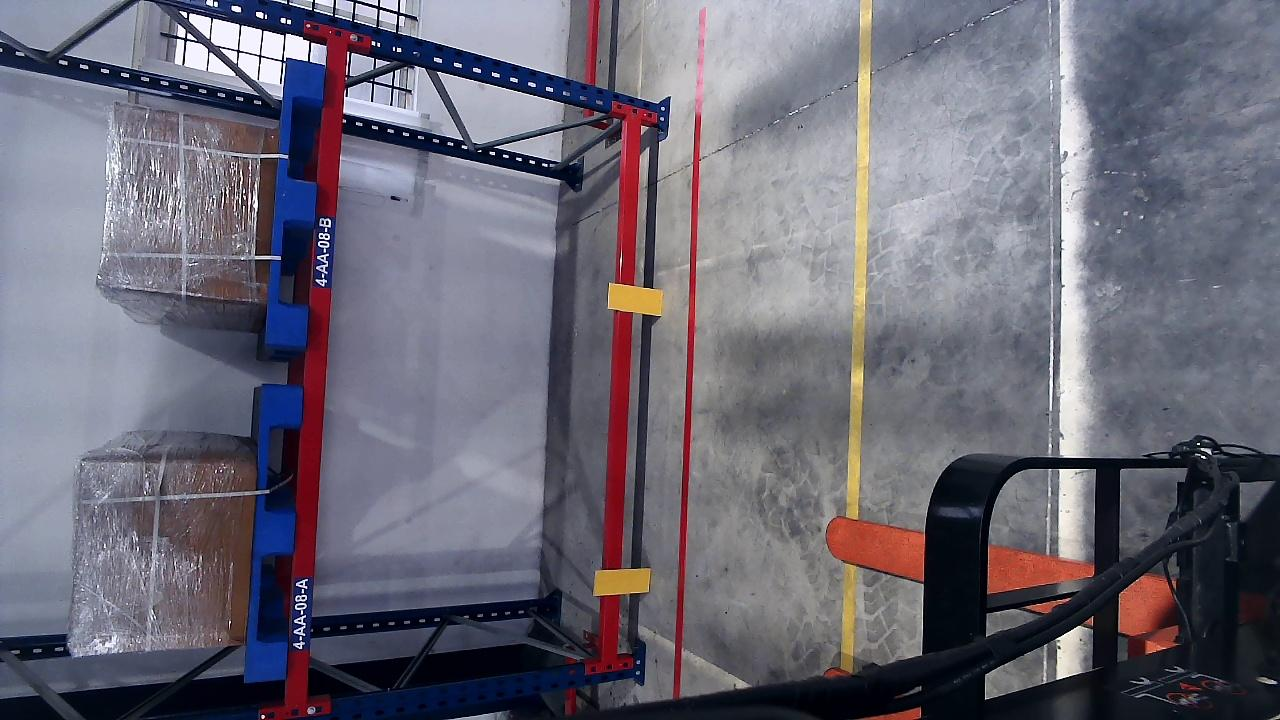h_rack: (288, 38, 348, 709), (599, 120, 642, 686)
orange_strip: (606, 282, 662, 315), (593, 567, 651, 595)
red_line: (672, 7, 704, 695)
small_pallet: (244, 388, 304, 679), (265, 57, 321, 349)
yellow_line: (842, 6, 875, 671)
